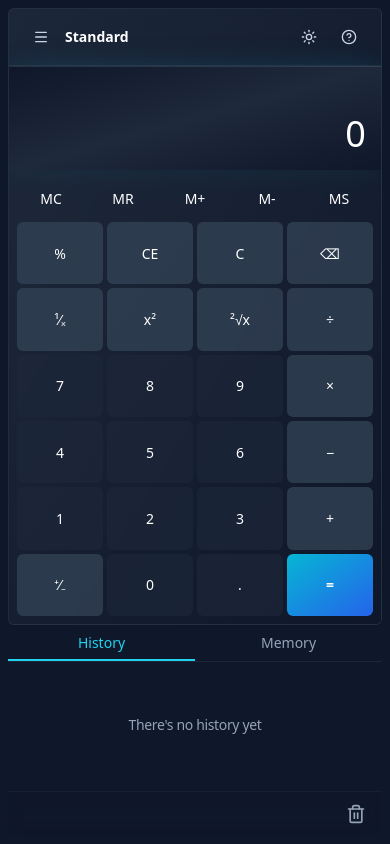
Scenario: History Functionality › toggles between history and memory tabs
expect the text "There's no history yet" is shown: met, box x1=129 y1=715 x2=262 y2=734
Note: Switch to memory tab
Click the button "Memory". click: (288, 643)
box: x1=195 y1=625 x2=382 y2=661
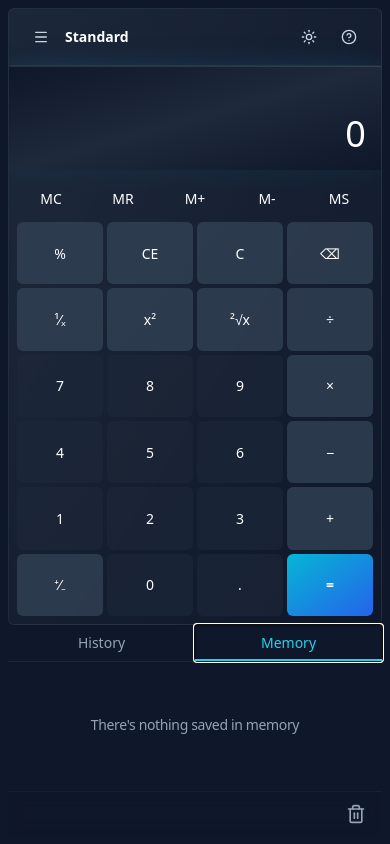
expect the text "There's nothing saved in memory" is shown: met, box x1=91 y1=715 x2=299 y2=734
Note: Switch back to history tab
Click the button "History". click: (102, 643)
box: x1=8 y1=625 x2=195 y2=661
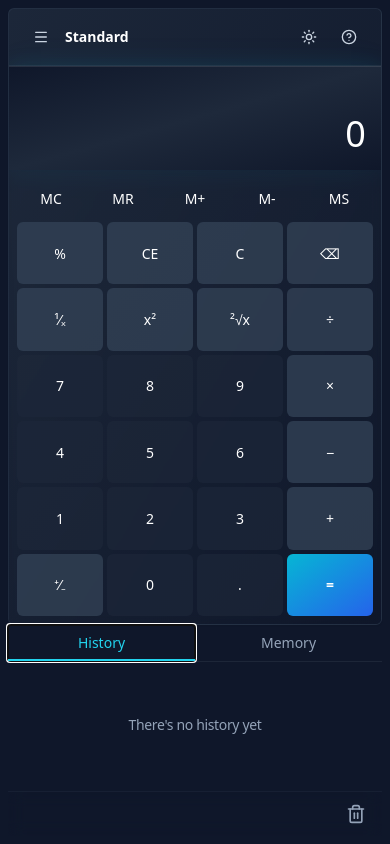
expect the text "There's no history yet" is shown: met, box x1=129 y1=715 x2=262 y2=734
